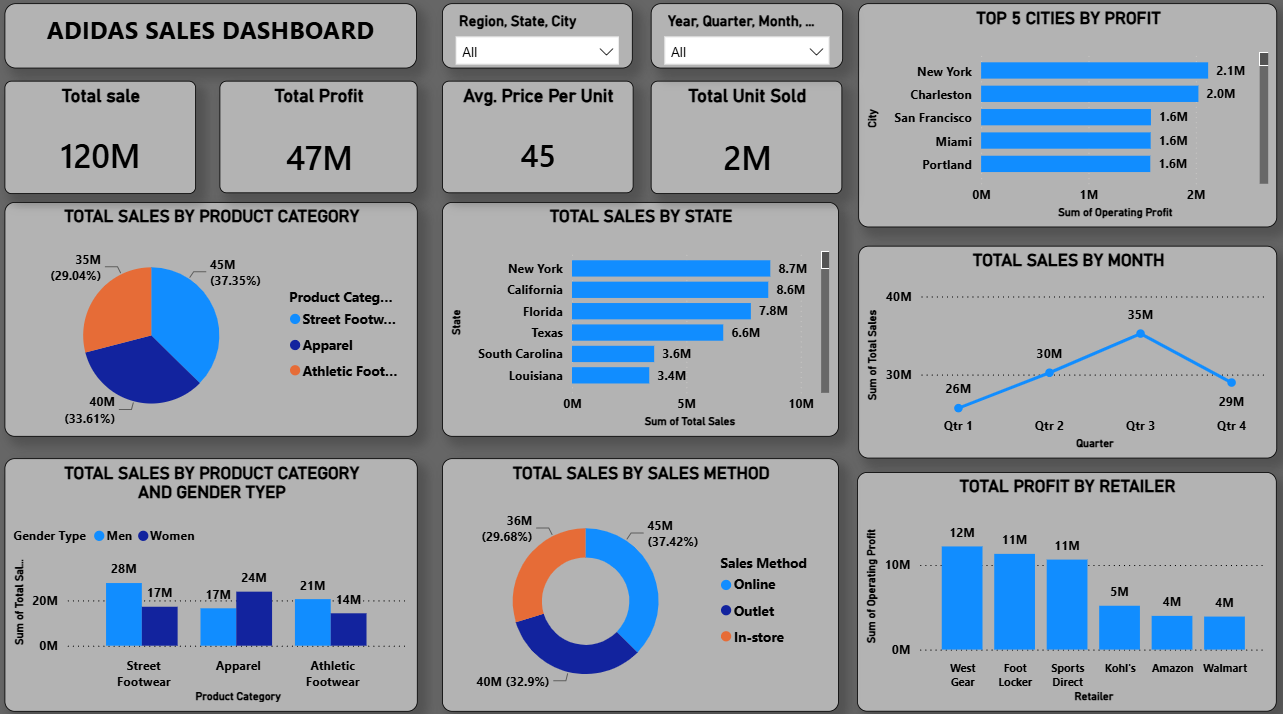

The page's visual inventory and layout, read from the dashboard file:
{"tool":"powerbi","page":{"name":"Page 1","canvas":[1280,720],"ordinal":0},"visuals":[{"type":"textbox","box":[12.5,11.2,405,63.8],"z":0},{"type":"slicer","fields":{"Values":["Adidas_Sales.Region","Adidas_Sales.State","Adidas_Sales.City"]},"box":[441.2,11.2,187.5,63.8],"z":1000},{"type":"clusteredBarChart","title":"TOP 5 CITIES BY PROFIT","fields":{"Category":["Adidas_Sales.City"],"Y":["Sum(Adidas_Sales.Operating Profit)"]},"box":[850,11.2,411.2,220],"z":2000},{"type":"lineChart","title":"TOTAL SALES BY MONTH","fields":{"Y":["Sum(Adidas_Sales.Total Sales)"],"Category":["Adidas_Sales.Invoice Date.Variation.Date Hierarchy.Quarter"]},"box":[850,248.6,411.4,208.6],"z":3000},{"type":"clusteredColumnChart","title":"TOTAL PROFIT BY RETAILER","fields":{"Y":["Sum(Adidas_Sales.Operating Profit)"],"Category":["Adidas_Sales.Retailer"]},"box":[849.6,471.5,411.8,235.1],"z":4000},{"type":"pieChart","title":"TOTAL SALES BY PRODUCT CATEGORY","fields":{"Y":["Sum(Adidas_Sales.Total Sales)"],"Category":["Adidas_Sales.Product Category"]},"box":[12.4,206.5,405.5,230.1],"z":5000},{"type":"clusteredBarChart","title":"TOTAL SALES BY STATE","fields":{"Y":["Sum(Adidas_Sales.Total Sales)"],"Category":["Adidas_Sales.State"]},"box":[441.6,206.5,389.4,230.1],"z":6000},{"type":"clusteredColumnChart","title":"TOTAL SALES BY PRODUCT CATEGORY AND GENDER TYEP","fields":{"Category":["Adidas_Sales.Product Category"],"Y":["Sum(Adidas_Sales.Total Sales)"],"Series":["Adidas_Sales.Gender Type"]},"box":[12.4,457.8,405.5,248.8],"z":7000},{"type":"donutChart","title":"TOTAL SALES BY SALES METHOD","fields":{"Category":["Adidas_Sales.Sales Method"],"Y":["Sum(Adidas_Sales.Total Sales)"]},"box":[441.6,457.8,389.4,248.8],"z":8000},{"type":"cardVisual","title":"Total sale","fields":{"Data":["Sum(Adidas_Sales.Total Sales)"]},"box":[12.4,87.1,188,111],"z":9000},{"type":"cardVisual","title":"Total Profit","fields":{"Data":["Sum(Adidas_Sales.Operating Profit)"]},"box":[223.9,87.1,194.1,110.7],"z":10000},{"type":"cardVisual","title":"Avg. Price Per Unit","fields":{"Data":["Avg(Adidas_Sales.Price per Unit)"]},"box":[441.7,87.1,187.7,110.4],"z":11000},{"type":"cardVisual","title":"Total Unit Sold","fields":{"Data":["Sum(Adidas_Sales.Units Sold)"]},"box":[646.9,87.1,188,111],"z":12000},{"type":"slicer","fields":{"Values":["Adidas_Sales.Invoice Date.Variation.Date Hierarchy.Year","Adidas_Sales.Invoice Date.Variation.Date Hierarchy.Quarter","Adidas_Sales.Invoice Date.Variation.Date Hierarchy.Month","Adidas_Sales.Invoice Date.Variation.Date Hierarchy.Day"]},"box":[646.2,11.2,188.8,63.8],"z":13000}]}

Visuals, with their boxes in screenshot pixels (x1, y1, x2, y2), scaled from the page's 1280x720 canvas onto the 1283x714 screenshot:
textbox: [left=13, top=11, right=418, bottom=74]
slicer - Adidas_Sales.Region x Adidas_Sales.State: [left=442, top=11, right=630, bottom=74]
"TOP 5 CITIES BY PROFIT" clusteredBarChart: [left=852, top=11, right=1264, bottom=229]
"TOTAL SALES BY MONTH" lineChart: [left=852, top=247, right=1264, bottom=453]
"TOTAL PROFIT BY RETAILER" clusteredColumnChart: [left=852, top=468, right=1264, bottom=701]
"TOTAL SALES BY PRODUCT CATEGORY" pieChart: [left=12, top=205, right=419, bottom=433]
"TOTAL SALES BY STATE" clusteredBarChart: [left=443, top=205, right=833, bottom=433]
"TOTAL SALES BY PRODUCT CATEGORY AND GENDER TYEP" clusteredColumnChart: [left=12, top=454, right=419, bottom=701]
"TOTAL SALES BY SALES METHOD" donutChart: [left=443, top=454, right=833, bottom=701]
"Total sale" cardVisual: [left=12, top=86, right=201, bottom=196]
"Total Profit" cardVisual: [left=224, top=86, right=419, bottom=196]
"Avg. Price Per Unit" cardVisual: [left=443, top=86, right=631, bottom=196]
"Total Unit Sold" cardVisual: [left=648, top=86, right=837, bottom=196]
slicer - Adidas_Sales.Invoice Date.Variation.Date Hierarchy.Year x Adidas_Sales.Invoice Date.Variation.Date Hierarchy.Quarter: [left=648, top=11, right=837, bottom=74]
